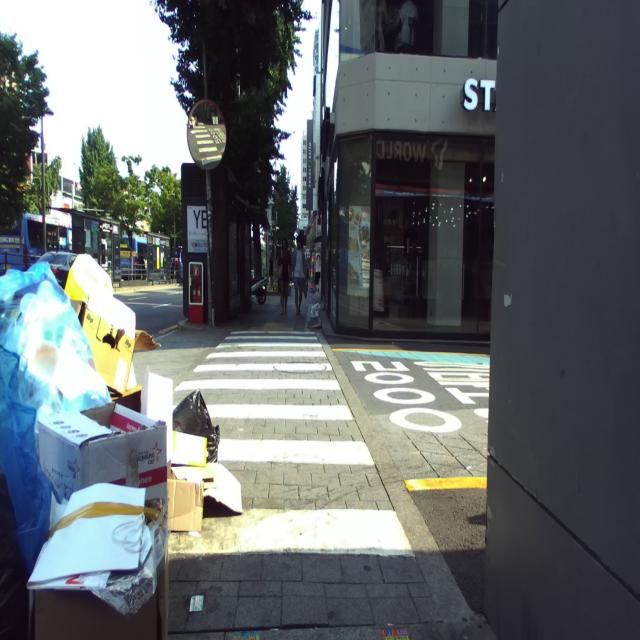횡단보도: (174, 330, 412, 556)
